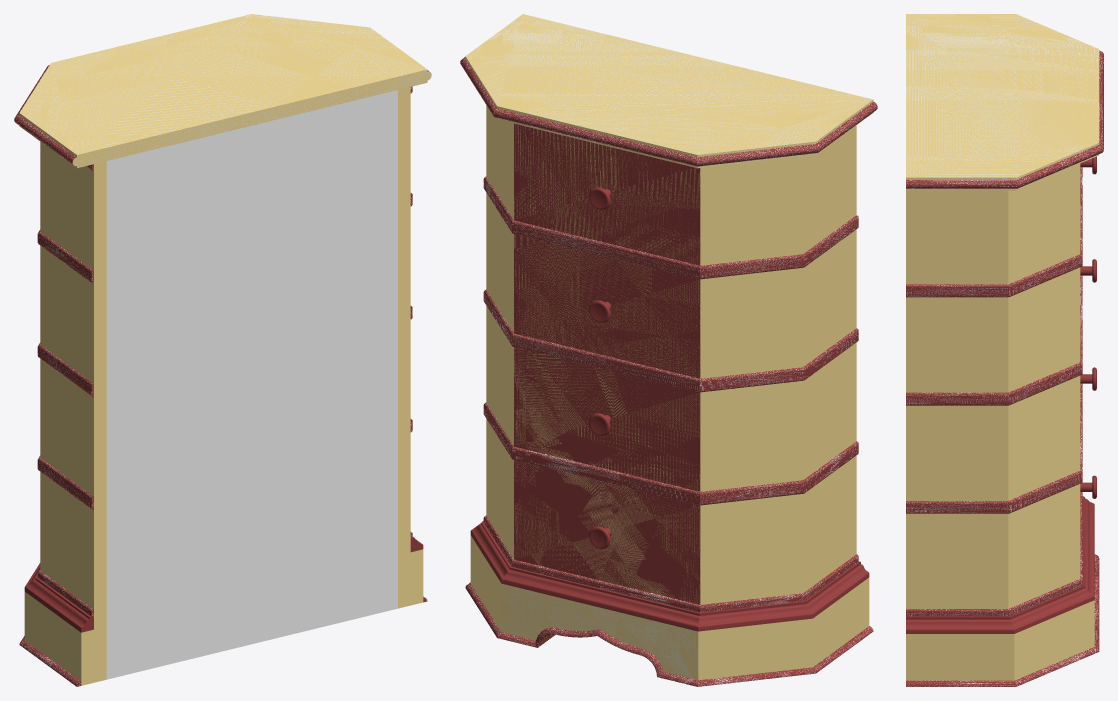
3 renders of one model, left to right at view 1: azimuth 30°, elevation 25°; view 2: azimuth 150°, elevation 25°; view 3: azimuth 270°, elevation 25°, orthographic. The views are drawn at different scales.
Parts seen in each view (by area): view 1: mesh12_mesh12-geometry, mesh16_mesh16-geometry, mesh20_mesh20-geometry, mesh19_mesh19-geometry, mesh25_mesh25-geometry, mesh23_mesh23-geometry; view 2: mesh3_mesh3-geometry, mesh20_mesh20-geometry, mesh16_mesh16-geometry, mesh19_mesh19-geometry, mesh25_mesh25-geometry, mesh23_mesh23-geometry, mesh28_mesh28-geometry, mesh27_mesh27-geometry, mesh1_mesh1-geometry; view 3: mesh20_mesh20-geometry, mesh16_mesh16-geometry, mesh19_mesh19-geometry, mesh25_mesh25-geometry, mesh23_mesh23-geometry, mesh28_mesh28-geometry, mesh27_mesh27-geometry, mesh1_mesh1-geometry.
Boxes of the visible parts, x1=… form: mesh12_mesh12-geometry: x1=106, y1=90, x2=397, y2=679; mesh16_mesh16-geometry: x1=14, y1=14, x2=431, y2=168; mesh20_mesh20-geometry: x1=40, y1=87, x2=410, y2=682; mesh19_mesh19-geometry: x1=24, y1=549, x2=423, y2=685; mesh25_mesh25-geometry: x1=37, y1=193, x2=412, y2=509; mesh23_mesh23-geometry: x1=24, y1=537, x2=423, y2=632; mesh3_mesh3-geometry: x1=514, y1=123, x2=700, y2=604; mesh20_mesh20-geometry: x1=486, y1=105, x2=856, y2=640; mesh16_mesh16-geometry: x1=460, y1=14, x2=877, y2=168; mesh19_mesh19-geometry: x1=470, y1=535, x2=869, y2=680; mesh25_mesh25-geometry: x1=483, y1=176, x2=858, y2=505; mesh23_mesh23-geometry: x1=470, y1=521, x2=869, y2=631; mesh28_mesh28-geometry: x1=465, y1=582, x2=873, y2=686; mesh27_mesh27-geometry: x1=483, y1=515, x2=858, y2=612; mesh1_mesh1-geometry: x1=589, y1=187, x2=611, y2=549; mesh20_mesh20-geometry: x1=906, y1=163, x2=1080, y2=608; mesh16_mesh16-geometry: x1=906, y1=14, x2=1103, y2=190; mesh19_mesh19-geometry: x1=906, y1=600, x2=1094, y2=680; mesh25_mesh25-geometry: x1=906, y1=167, x2=1082, y2=513; mesh23_mesh23-geometry: x1=906, y1=496, x2=1094, y2=633; mesh28_mesh28-geometry: x1=906, y1=554, x2=1099, y2=686; mesh27_mesh27-geometry: x1=906, y1=492, x2=1082, y2=616; mesh1_mesh1-geometry: x1=1080, y1=156, x2=1096, y2=498.
Bounding box in the file's own units: 0.5546 × 0.7849 × 0.2763.
